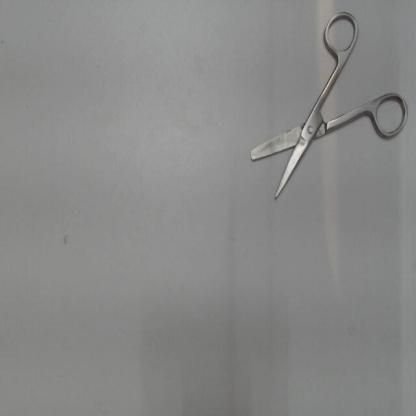Dressing Scissors: (235, 4, 412, 209)
